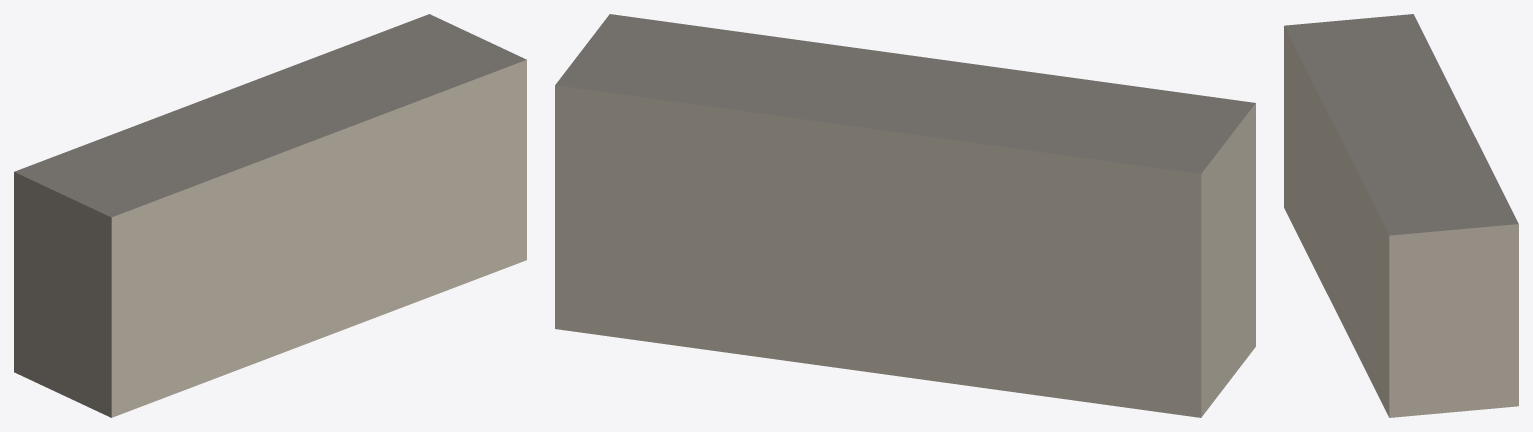
The picture shows the model from 3 angles, left to right: view 1: azimuth 30°, elevation 25°; view 2: azimuth 150°, elevation 25°; view 3: azimuth 270°, elevation 25°; orthographic projection. The views are drawn at different scales.
Visible parts, largest first — view 1: HP-w859488676; view 2: HP-w859488676; view 3: HP-w859488676.
Boxes of the visible parts, x1,y1,x2,y2 form: HP-w859488676: (14,14,526,417); HP-w859488676: (555,14,1255,417); HP-w859488676: (1284,14,1518,417).
Size of the model in its own units: 46.94 by 18 by 21.
